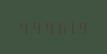four: (17, 20, 28, 34), (29, 20, 40, 34)
nine: (42, 20, 53, 34), (78, 20, 89, 34)
one: (66, 20, 77, 34)
six: (54, 20, 65, 34)
